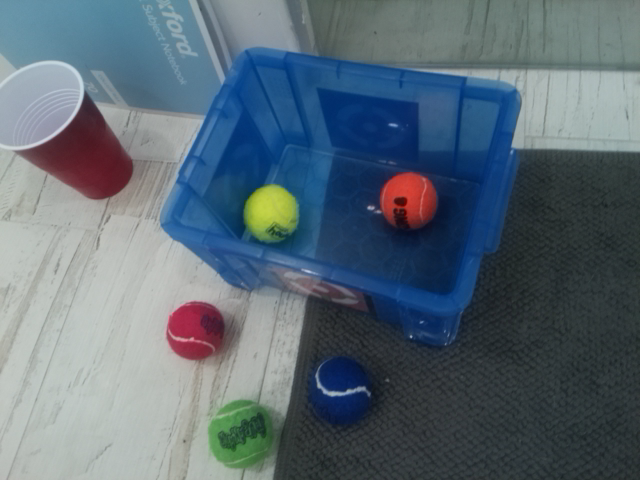blue-ball: (309, 354, 374, 425)
green-ball: (206, 399, 275, 468)
orange-ball: (379, 171, 438, 231)
red-ball: (165, 300, 225, 361)
yellow-ball: (242, 183, 300, 244)
